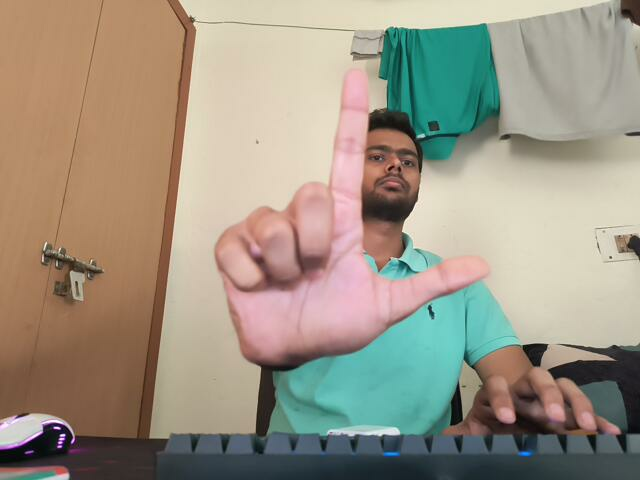tk4: (212, 66, 495, 381)
